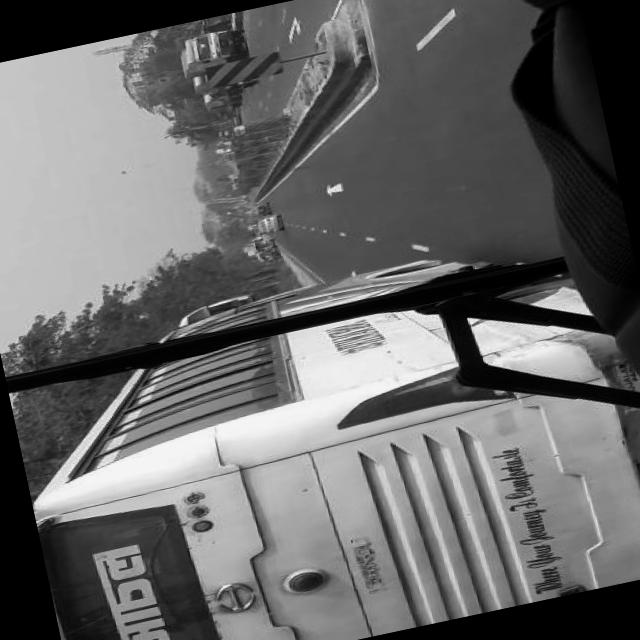bus: (6, 217, 640, 640), (253, 239, 276, 252)
car: (255, 216, 281, 234), (250, 202, 268, 216)
motorcycle: (225, 78, 258, 92)
truck: (174, 26, 250, 79), (204, 94, 242, 115)
